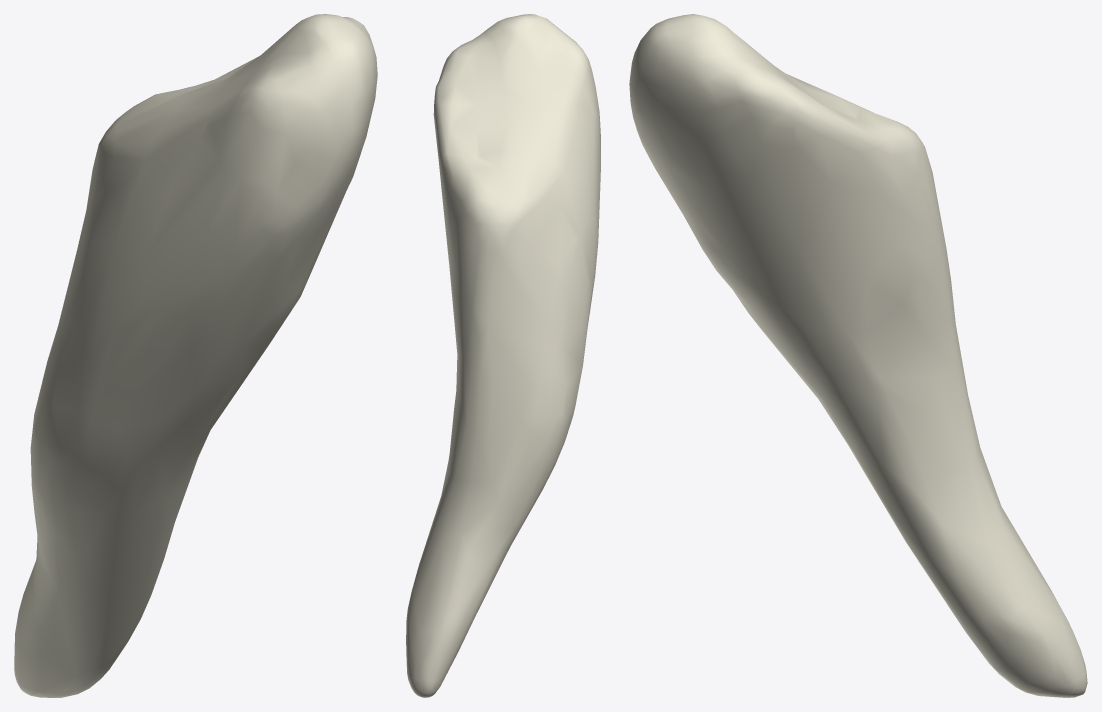
The model's file is Left lower canine tooth.fbx.
The picture shows the model from 3 angles, left to right: view 1: azimuth 30°, elevation 25°; view 2: azimuth 150°, elevation 25°; view 3: azimuth 270°, elevation 25°; orthographic projection. The views are drawn at different scales.
Parts seen in each view (by area): view 1: Left lower canine tooth; view 2: Left lower canine tooth; view 3: Left lower canine tooth.
Part boxes in pixels (x1=…): Left lower canine tooth: x1=14, y1=14, x2=377, y2=697; Left lower canine tooth: x1=406, y1=14, x2=600, y2=697; Left lower canine tooth: x1=629, y1=14, x2=1087, y2=697.
Bounding box in the file's own units: 1.15 × 3.57 × 2.08.
